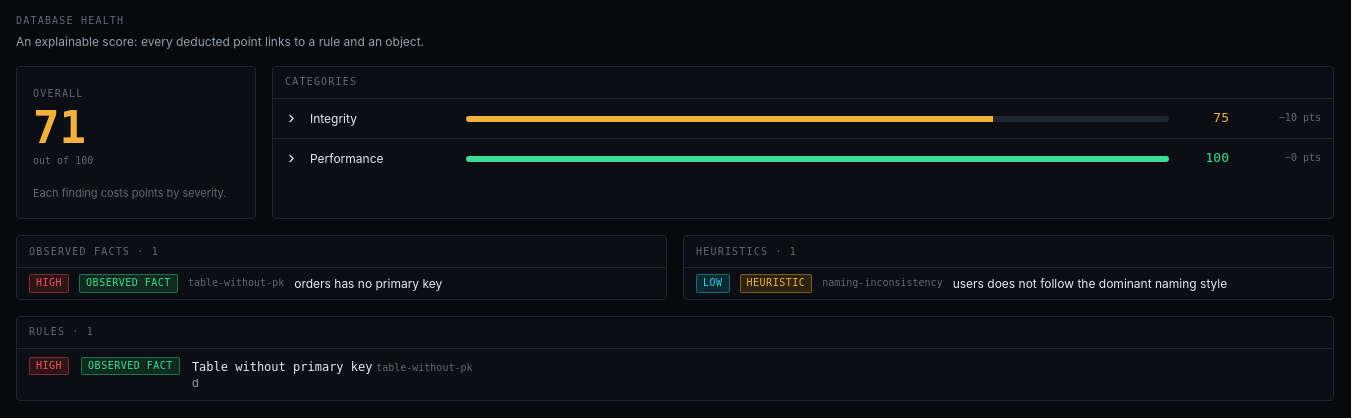
it: HealthView › traces a category penalty back to its rule
Expected: the text "Integrity" is shown, [310, 111, 357, 126]
Click the button "Integrity 75 −10 pts": (803, 119) [273, 99, 1333, 138]
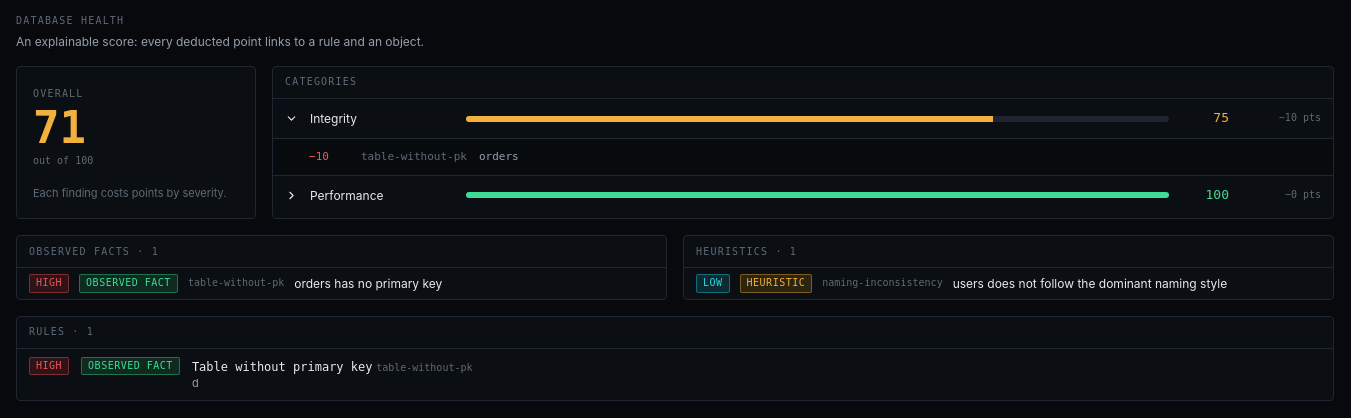
Expected: the text "−10" is shown, [309, 150, 329, 163]
